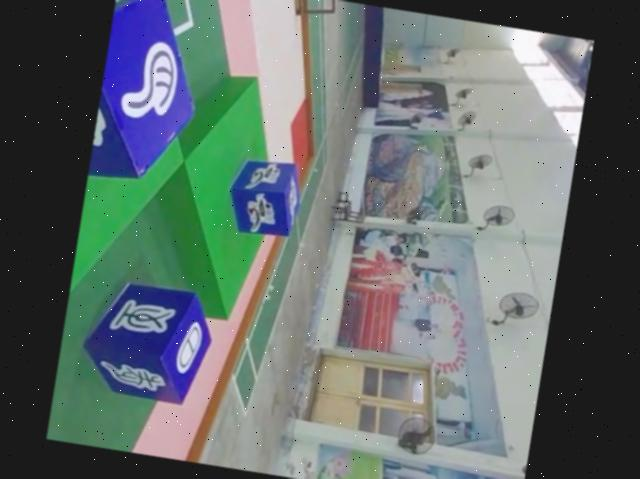R1 Blue: (223, 152, 305, 240)
R2 Fake Blue: (88, 0, 210, 187), (74, 273, 216, 406)
